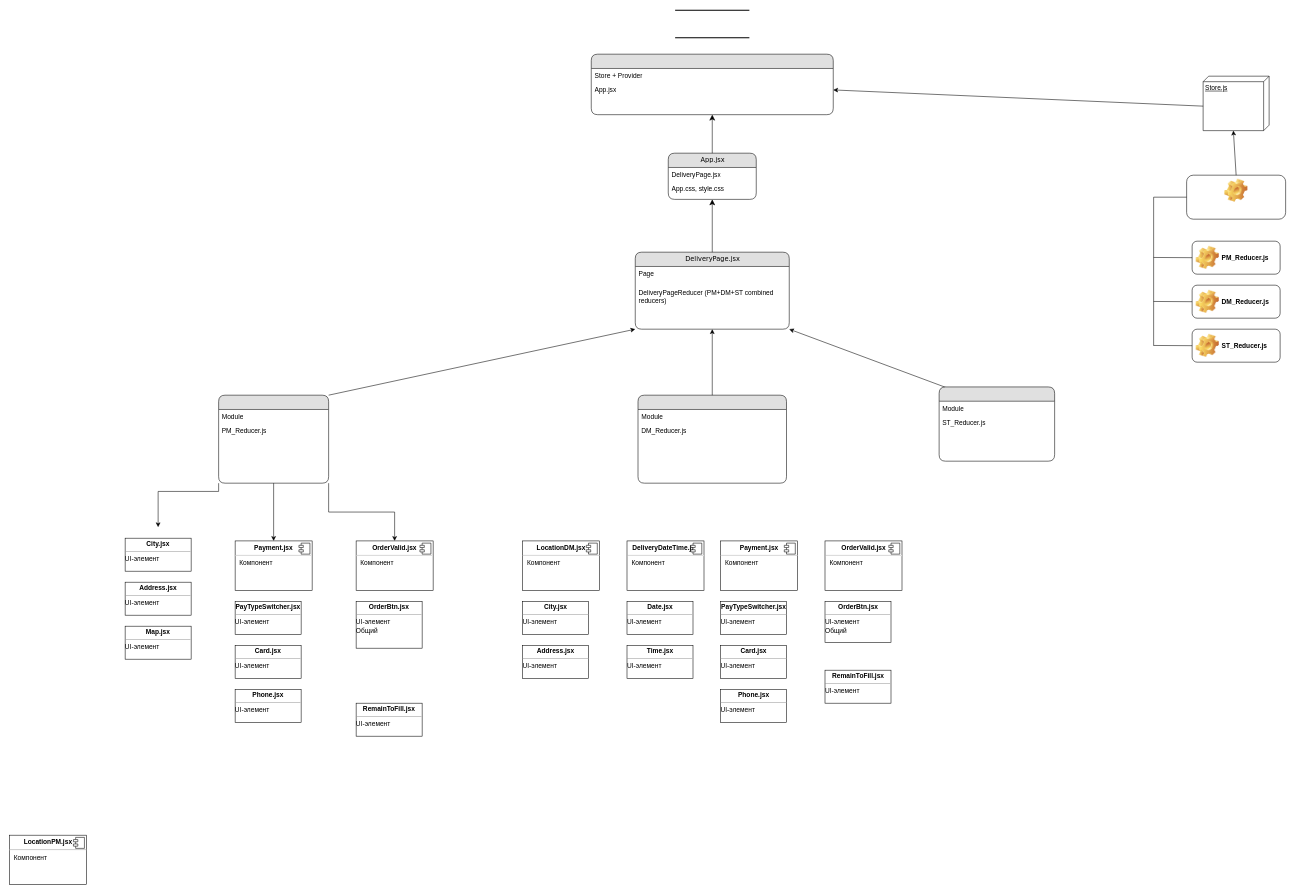
Image size: 1295x894. Some labels were removed from this diagram. The shapes that lost their labels are listed below. From the top down, each one's box as (x1, y1, x2, y2) in pixels, then its label:
(674, 9, 750, 38): File structure
(591, 54, 833, 115): index.js
(1186, 175, 1286, 219): DeliveryPageReducer.js
(218, 395, 329, 483): PickupModule.jsx
(637, 395, 787, 483): DeliveryModule.jsx
(939, 386, 1055, 461): SwitchTabs.jsx
